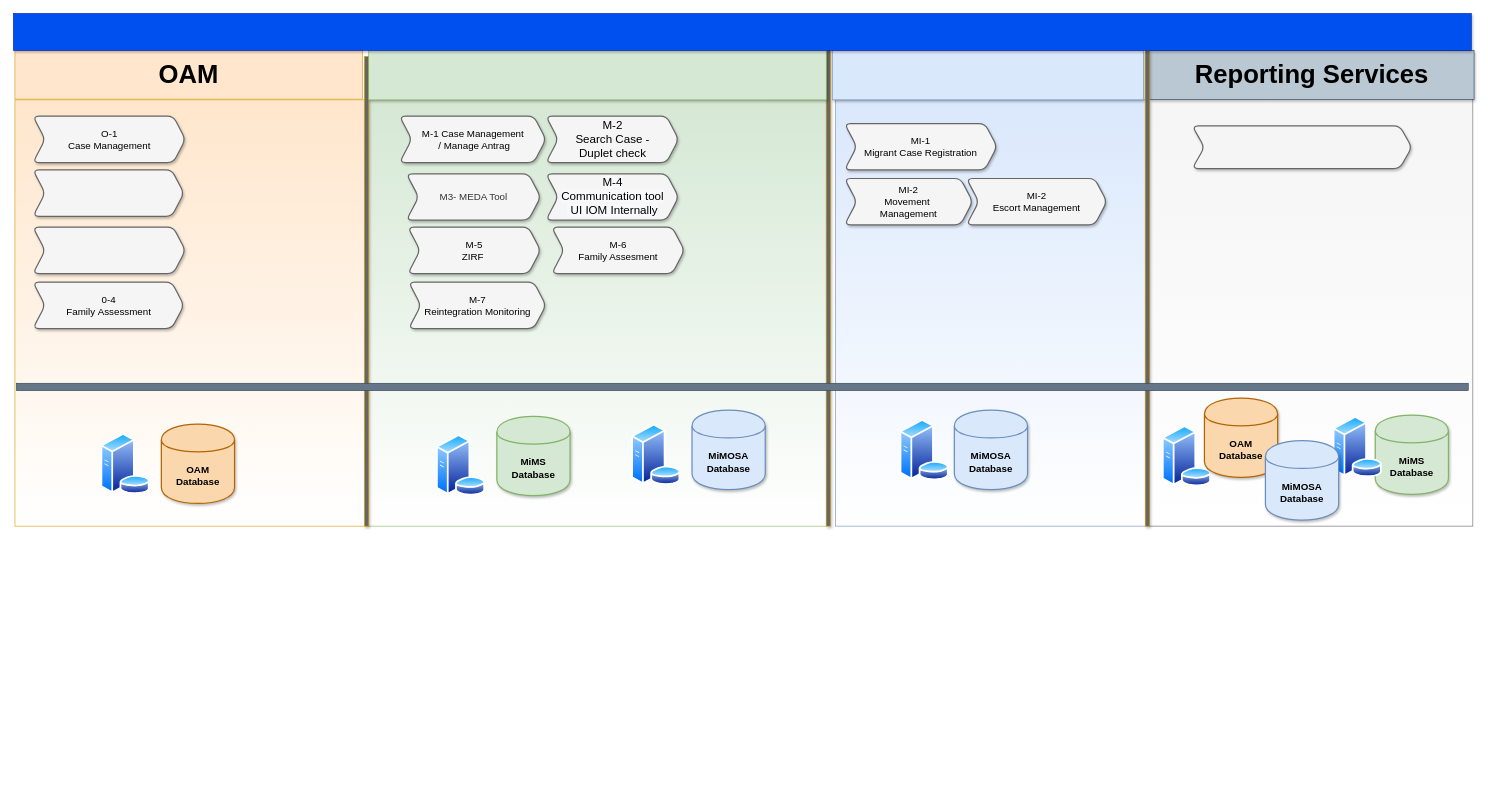
Some shapes in this 1488 by 810 pixel diagram are drawn without their labels. Each missing label, with the centre of its shape:
"MiMOSA" belongs at pixel 988 76.
"MiMS" belongs at pixel 597 76.
"O-2 ZIRF" belongs at pixel 109 194.
"O-3 Communication Tool UI- SP/Donor" belongs at pixel 109 251.
"R-1 Reporting Services" belongs at pixel 1302 148.
"REAG-GARP Applications by the function" belongs at pixel 742 32.
